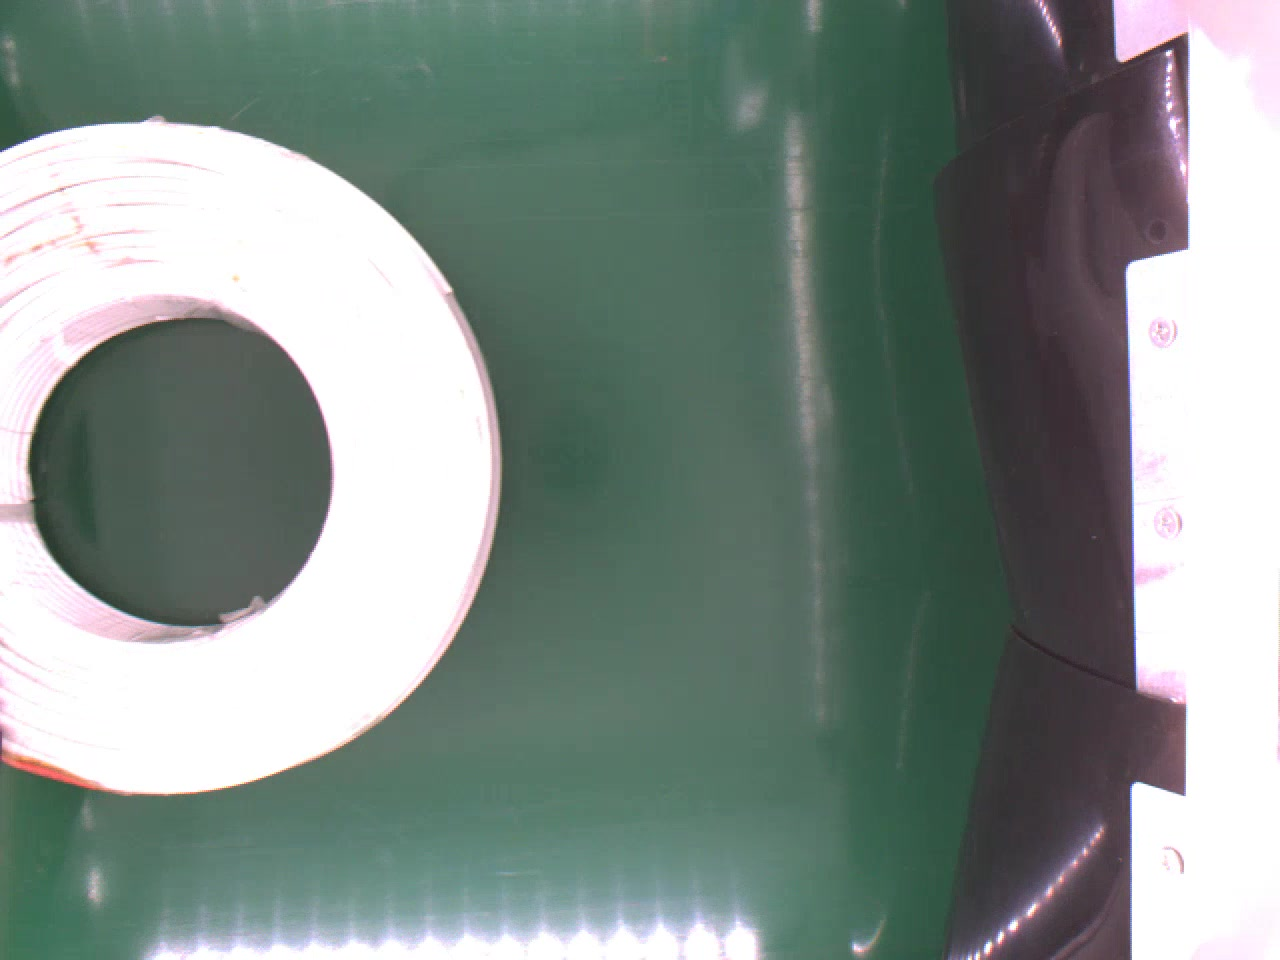white: (0, 115, 504, 794)
